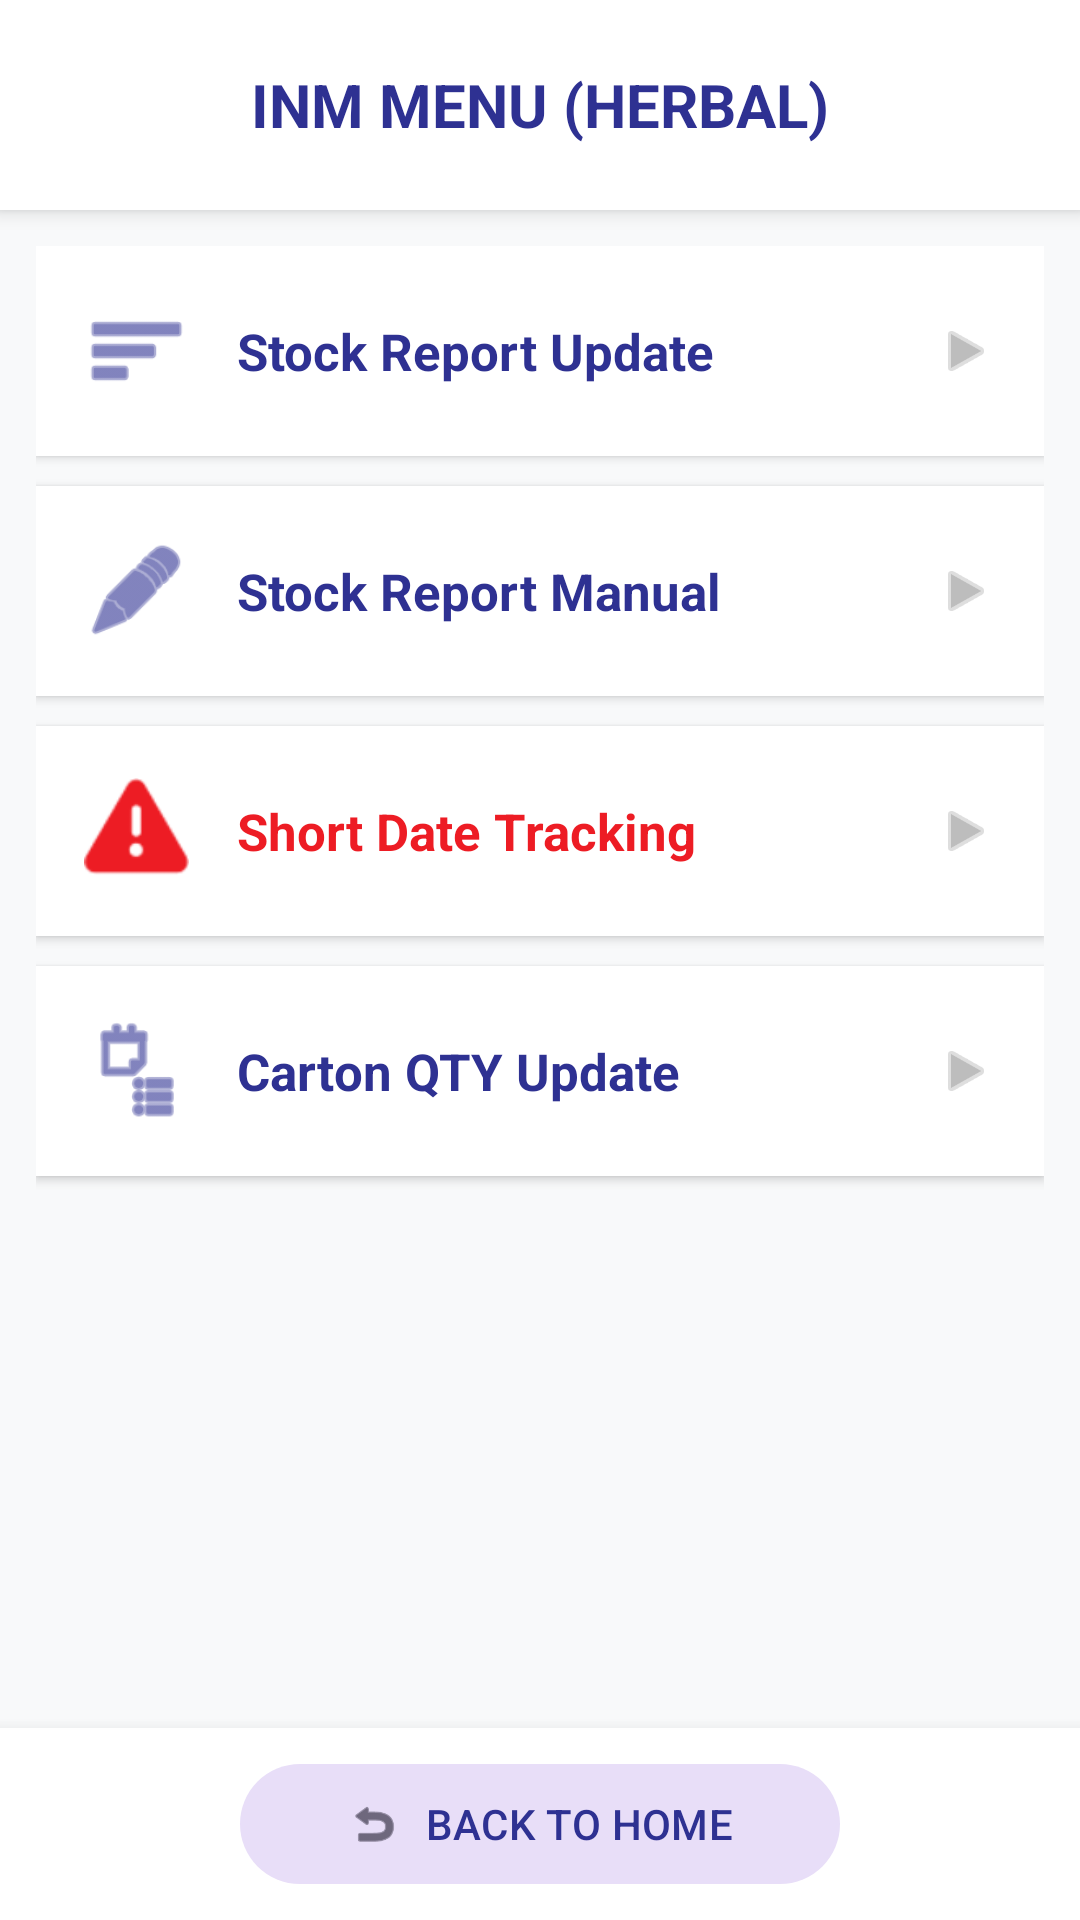

Icons on this 1080 × 1920 Android screen, each with its box as bbox(x1, y1, x2, y2):
agenda: bbox(100, 1023, 174, 1117)
alert: bbox(84, 778, 189, 874)
edit: bbox(92, 545, 181, 634)
play: bbox(948, 331, 984, 371), bbox(948, 571, 984, 611), bbox(948, 811, 984, 851), bbox(948, 1051, 984, 1091)
sort by size: bbox(91, 322, 182, 381)
